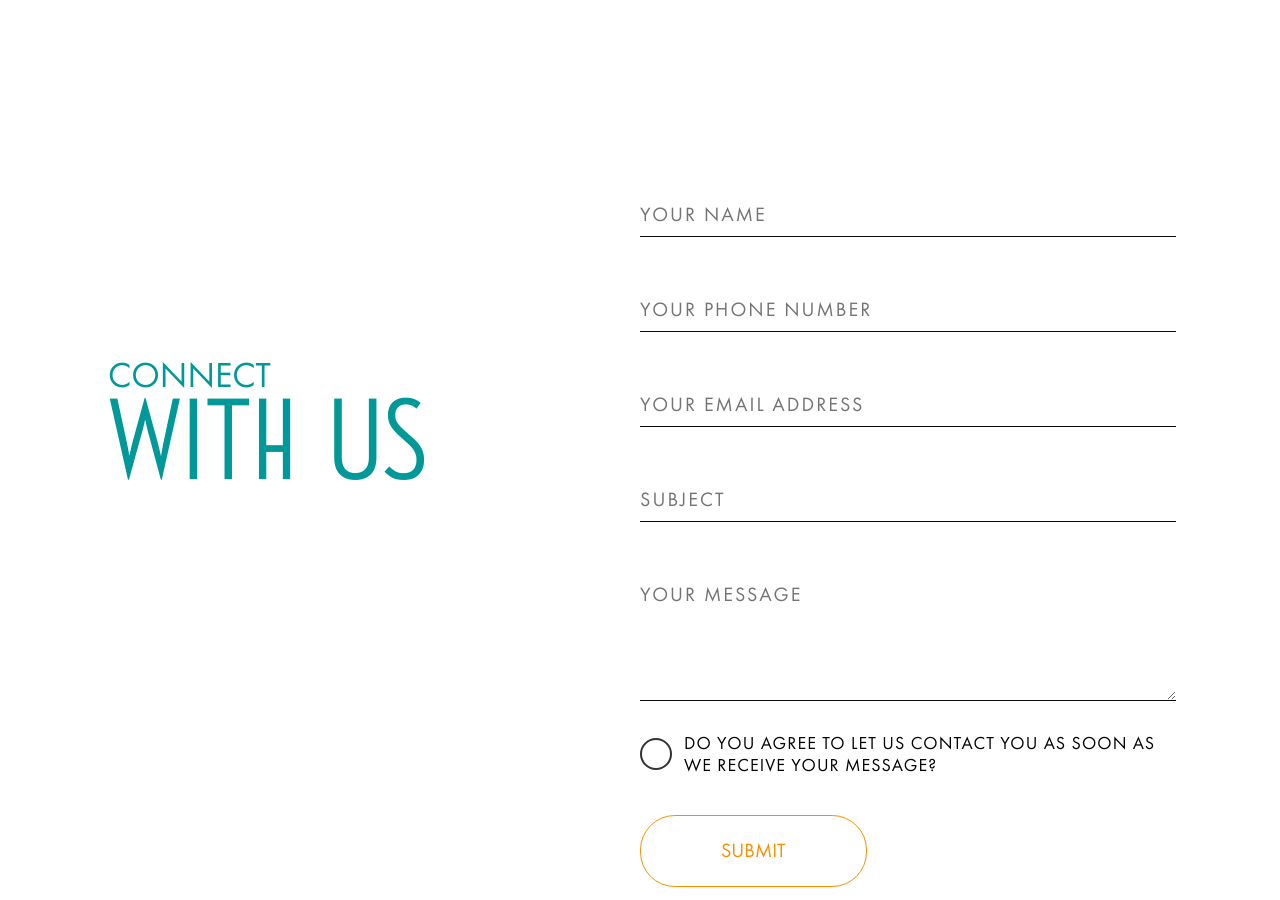
it: Contact Form Component › Form Submission › should show success modal after successful submission
Note: Fill form with valid data
Type "John Doe" into the field with placeholder "Your Name" at x=908, y=214, box left=640, top=192, right=1176, bottom=237
Type "+919876543210" into the field with placeholder "Your Phone Number" at x=908, y=310, box left=640, top=287, right=1176, bottom=332
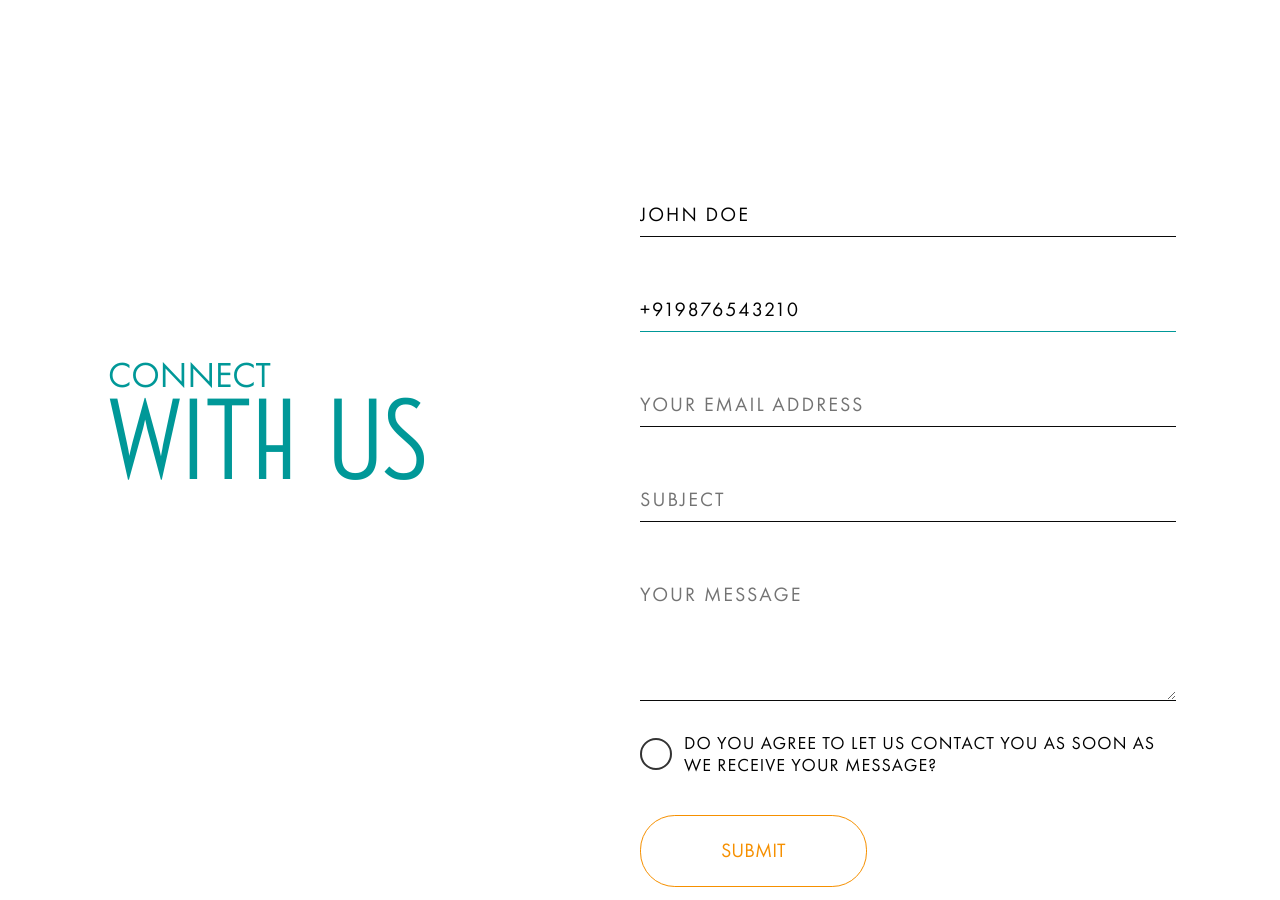
Type "john.doe@example.com" into the field with placeholder "Your Email Address" at x=908, y=404, box left=640, top=382, right=1176, bottom=427
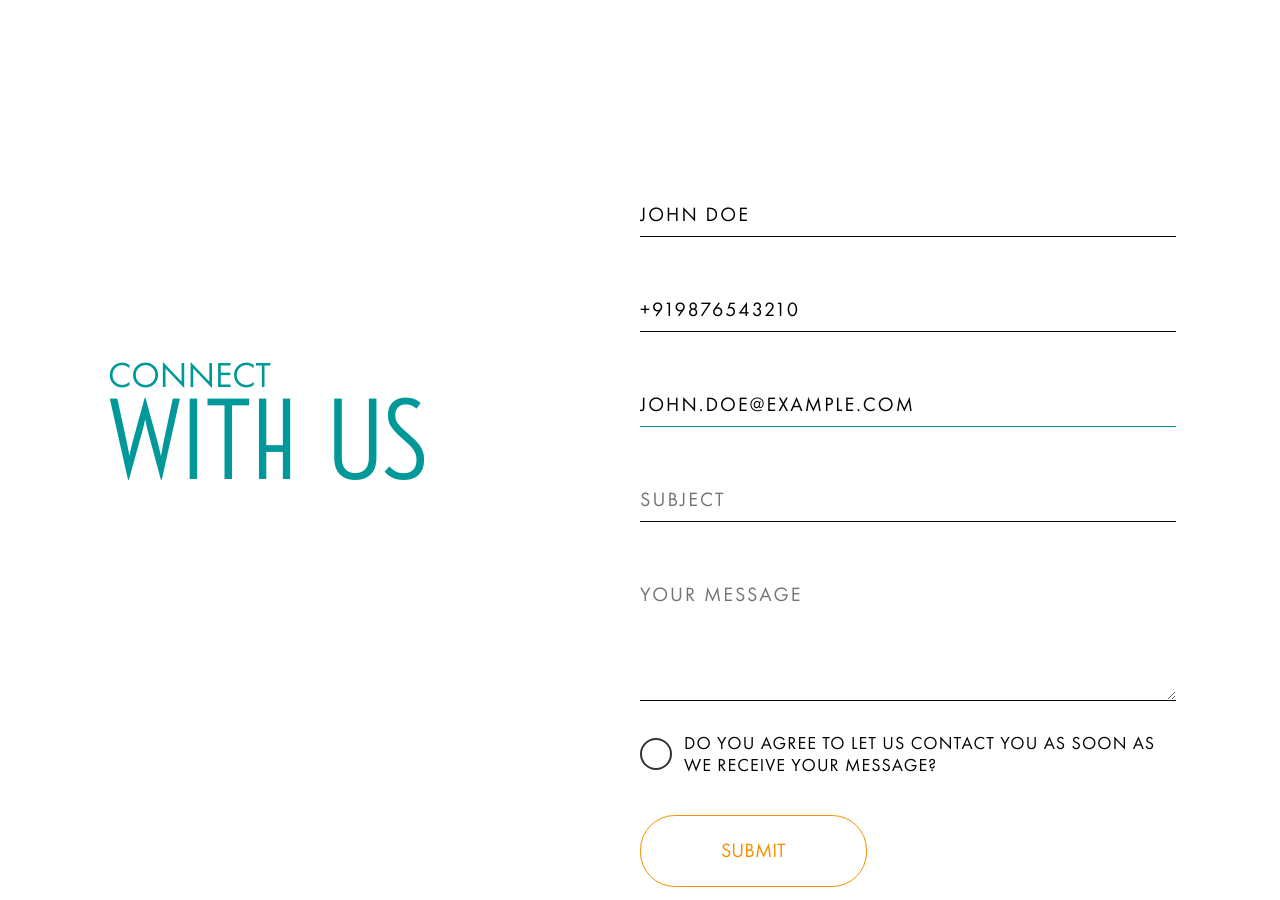
Type "General Inquiry" into the field with placeholder "Subject" at x=908, y=500, box left=640, top=477, right=1176, bottom=522
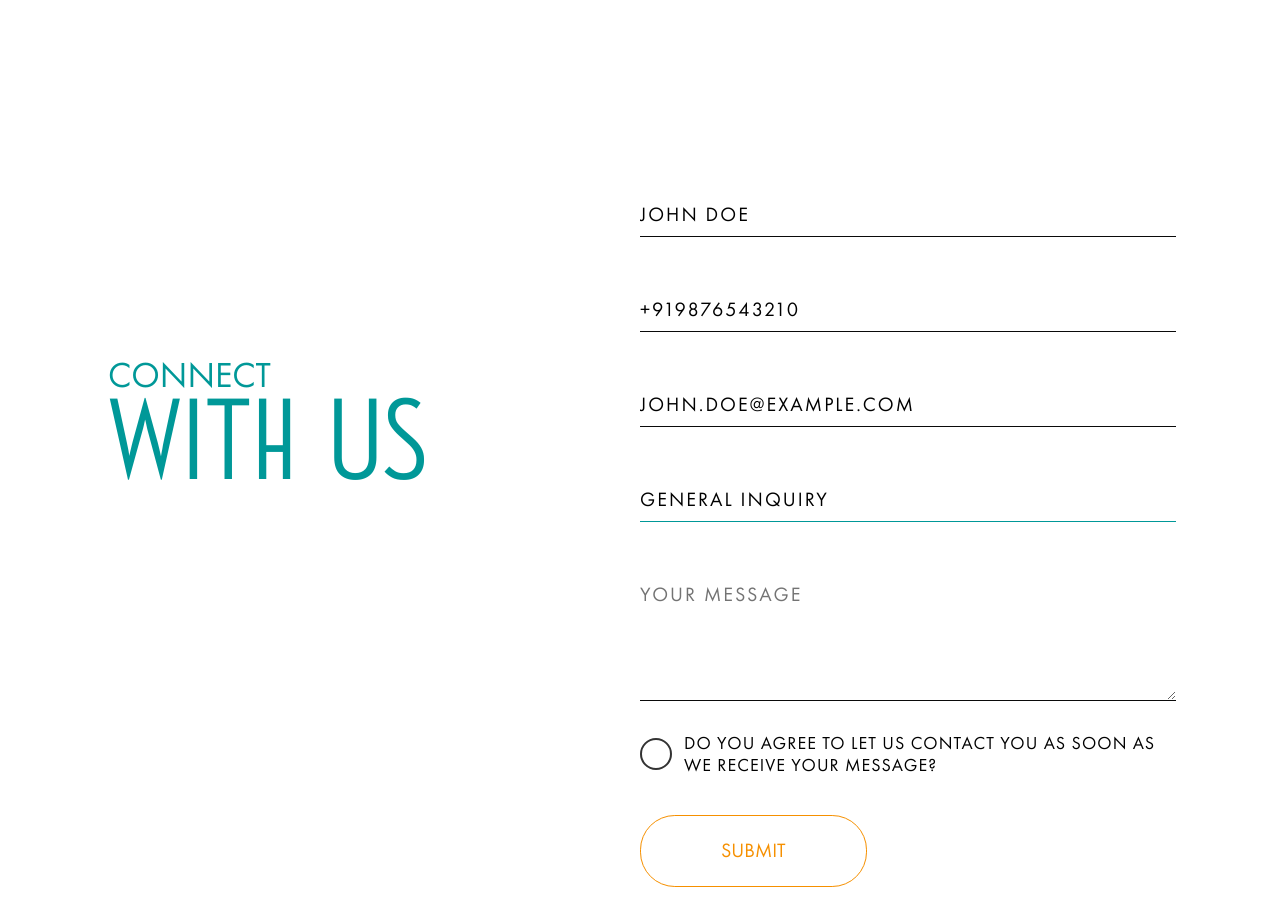
Type "I would like to know more about your services." into the text box with placeholder "Your Message" at x=908, y=636, box left=640, top=572, right=1176, bottom=701
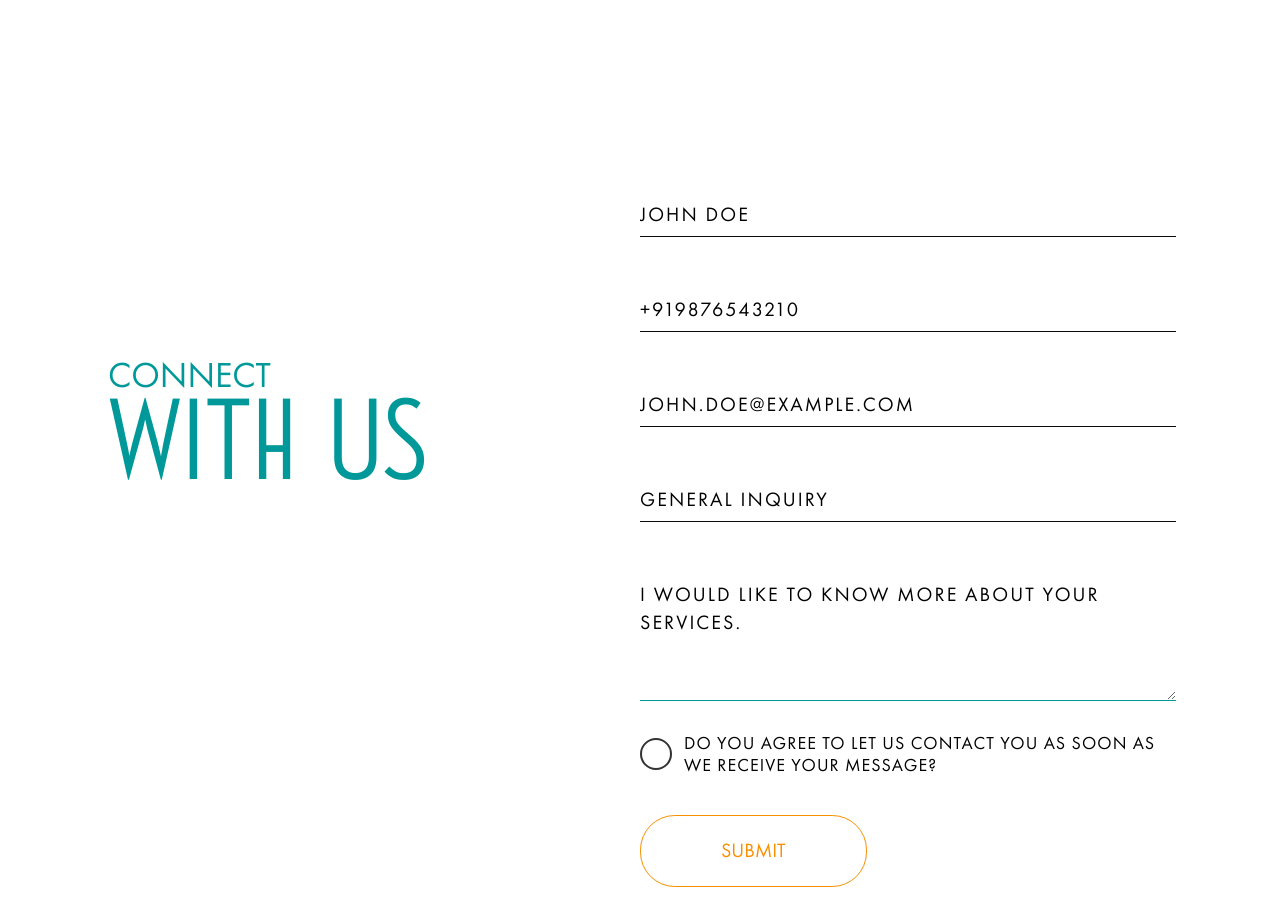
Note: Check agreement checkbox
Click the checkbox at x=908, y=754, box left=640, top=732, right=1176, bottom=775
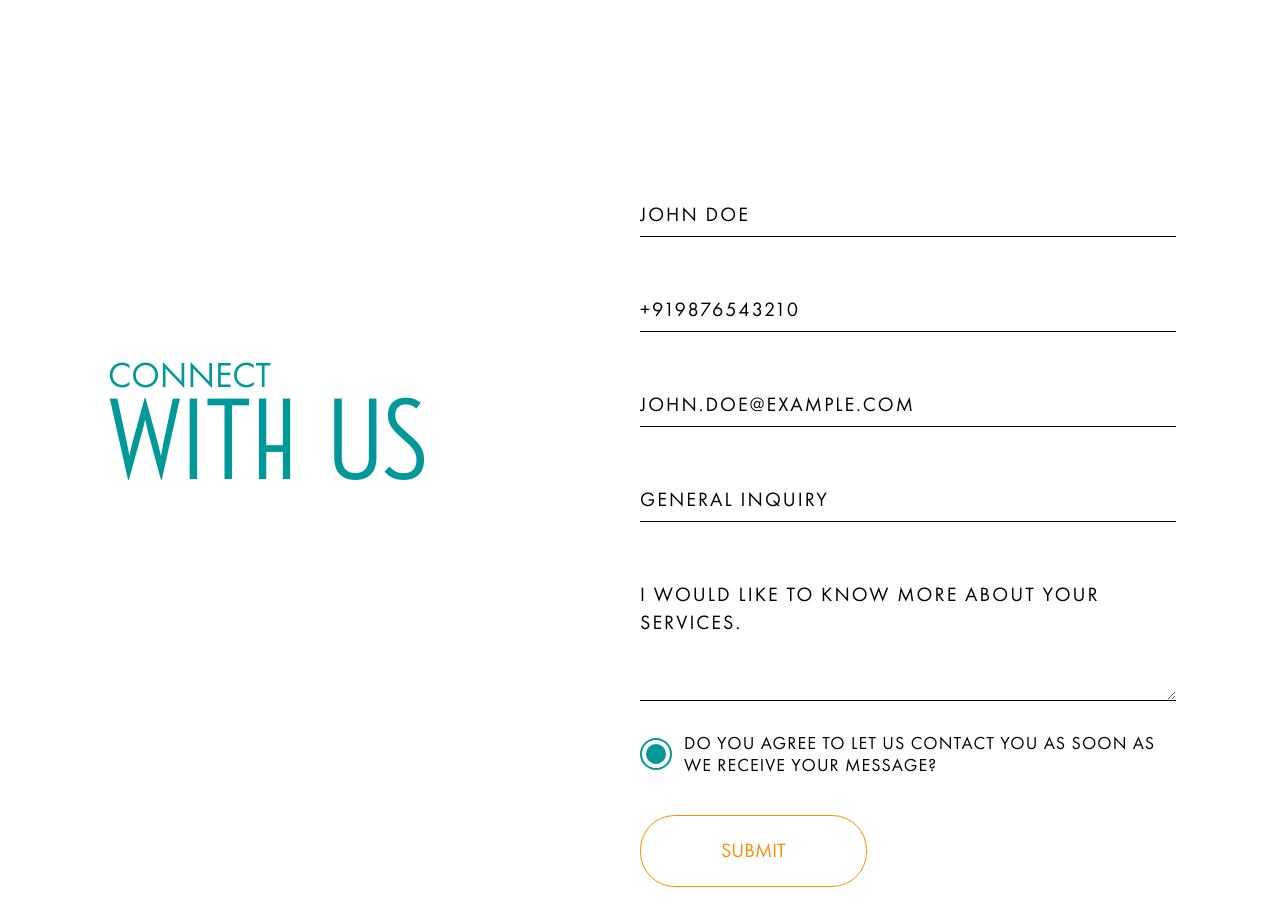
Note: Submit form
Click the button "Submit" at x=753, y=851, box left=640, top=815, right=867, bottom=887
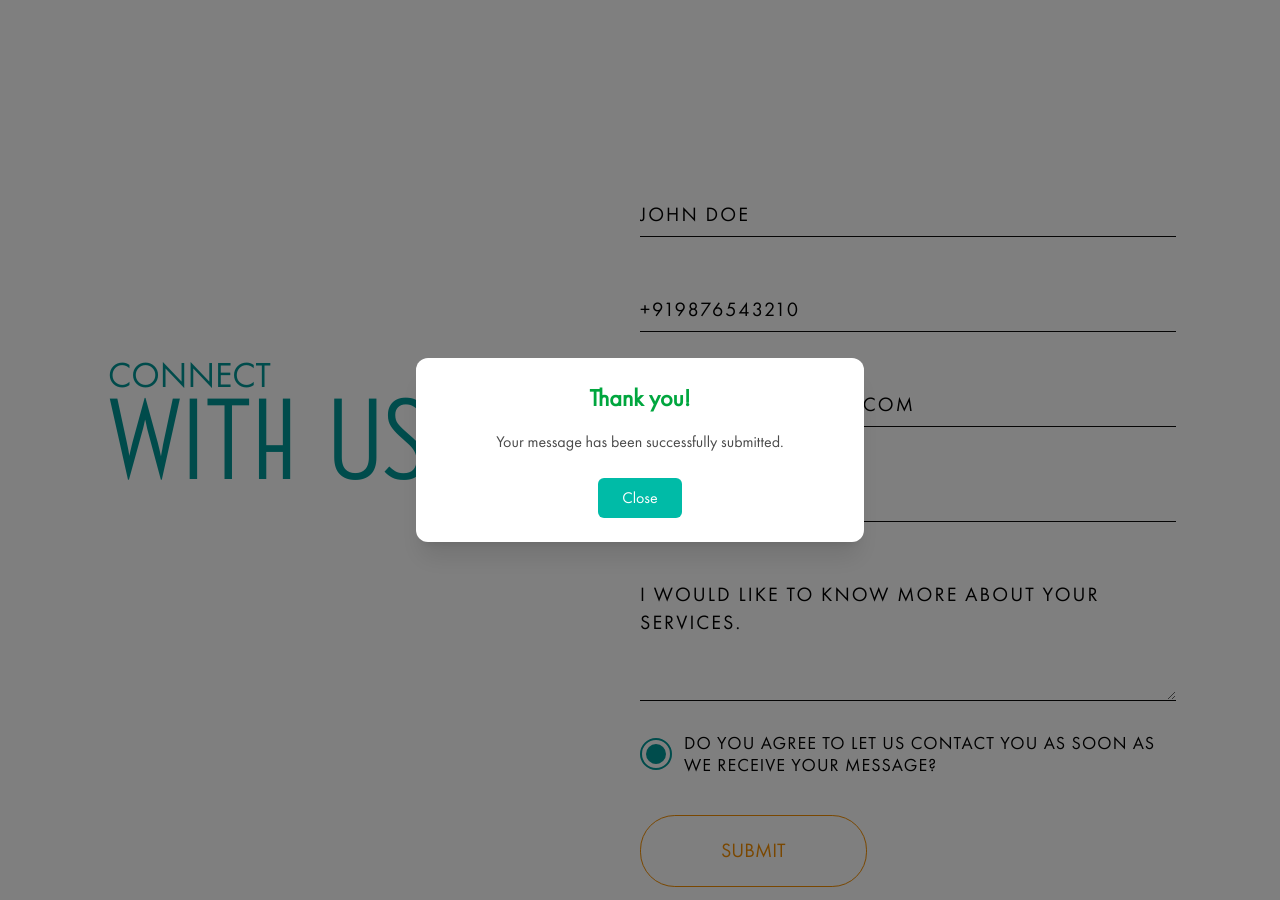
Now the heading "Thank you!" is shown, box left=590, top=382, right=690, bottom=413
Now the text "Your message has been successfully submitted." is shown, box left=496, top=431, right=784, bottom=452
